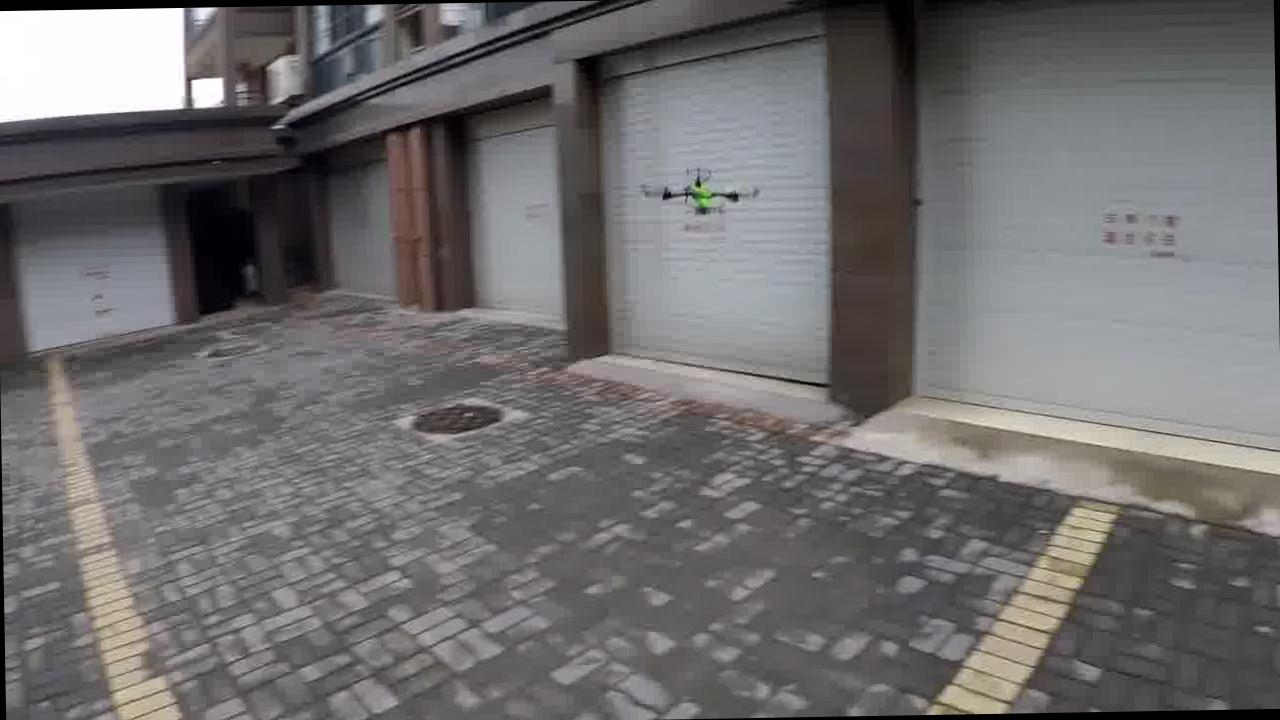drone: (648, 153, 768, 237)
